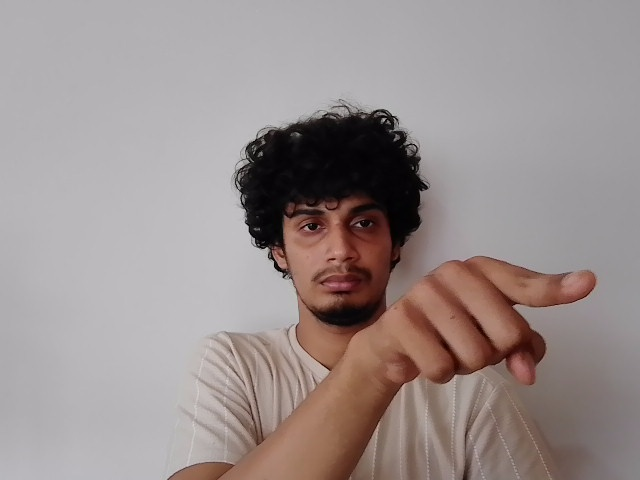you: (361, 247, 598, 386)
